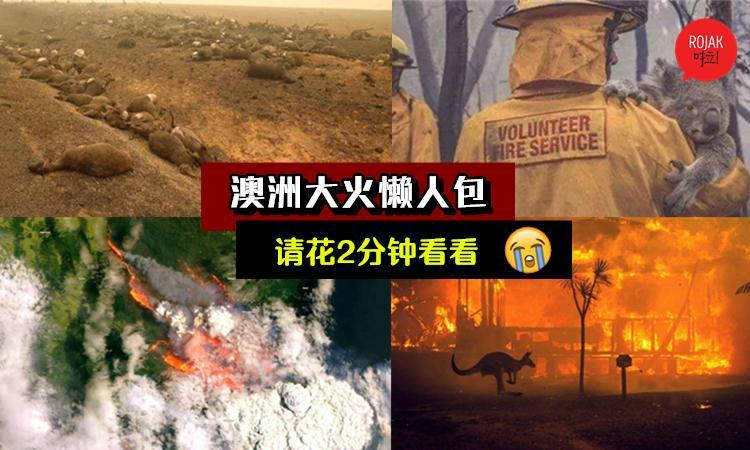fire: (397, 276, 727, 386), (103, 233, 266, 385), (566, 210, 732, 288)
